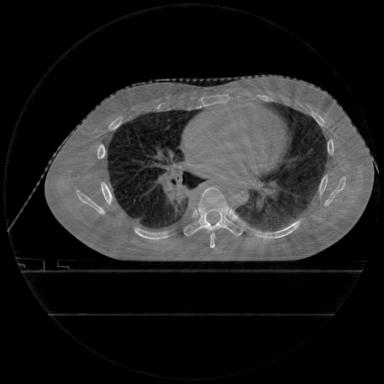body: (43, 76, 375, 262)
cord: (184, 188, 244, 248)
paru kanan: (109, 110, 200, 227)
paru kiri: (236, 103, 327, 231)
